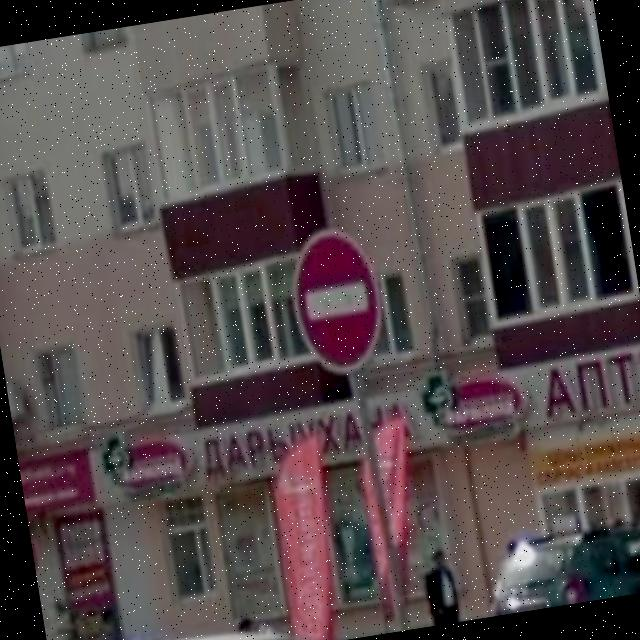Zakaz wjazdu: (282, 220, 398, 382)
